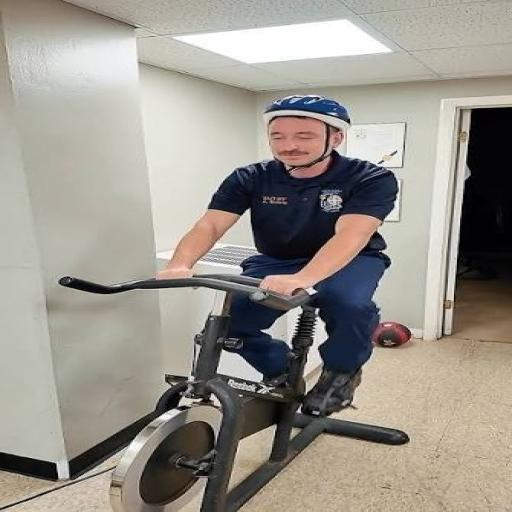helmet: (258, 91, 352, 170)
